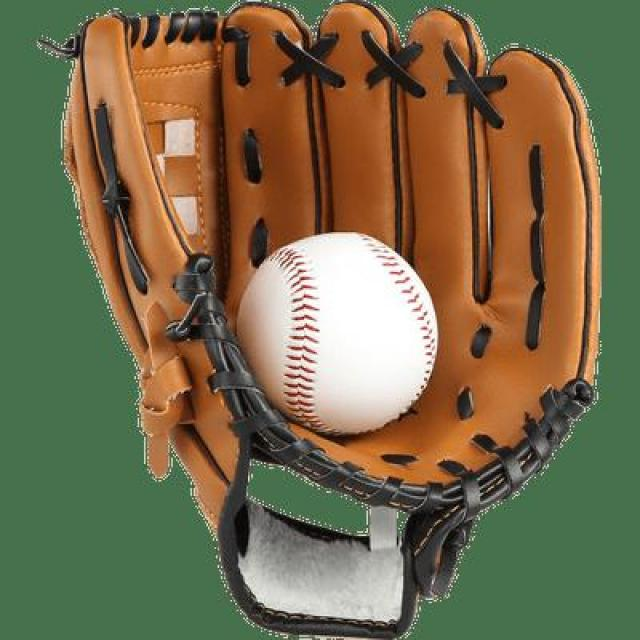baseball: (235, 231, 440, 434)
